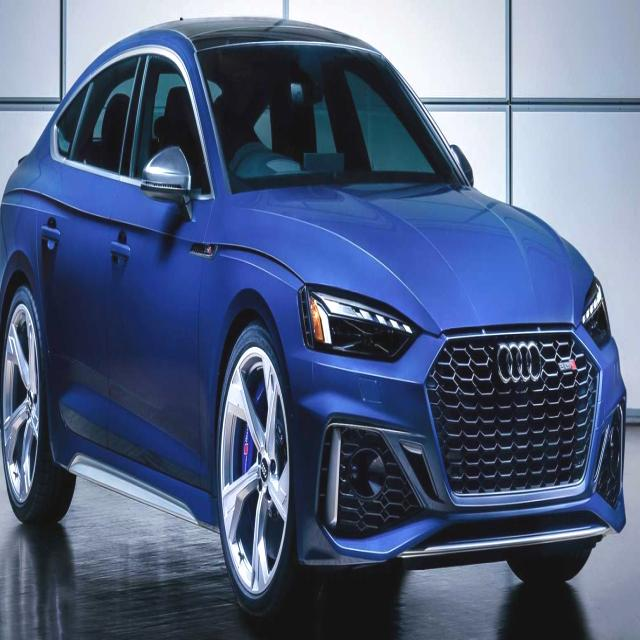blue: (0, 15, 636, 640)
